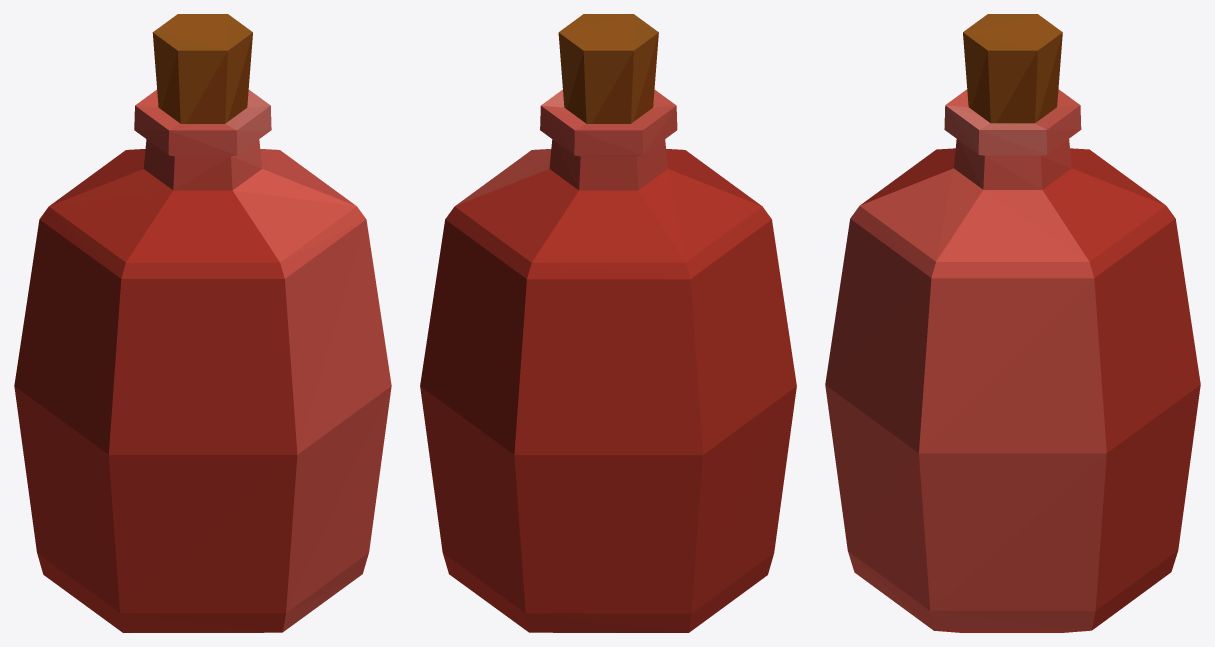
Rendered from prop_bottle_potion_health_3.fbx.
3 views of the same model, side by side, from view 1: azimuth 30°, elevation 25°; view 2: azimuth 150°, elevation 25°; view 3: azimuth 270°, elevation 25° (orthographic).
Visible parts, largest first — view 1: prop_bottle_potion_health_3; view 2: prop_bottle_potion_health_3; view 3: prop_bottle_potion_health_3.
Boxes of the visible parts, x1,y1,x2,y2 form: prop_bottle_potion_health_3: (14, 14, 391, 632); prop_bottle_potion_health_3: (420, 14, 796, 632); prop_bottle_potion_health_3: (825, 14, 1200, 632).
Bounding box in the file's own units: 0.604 × 1.15 × 0.6967.
